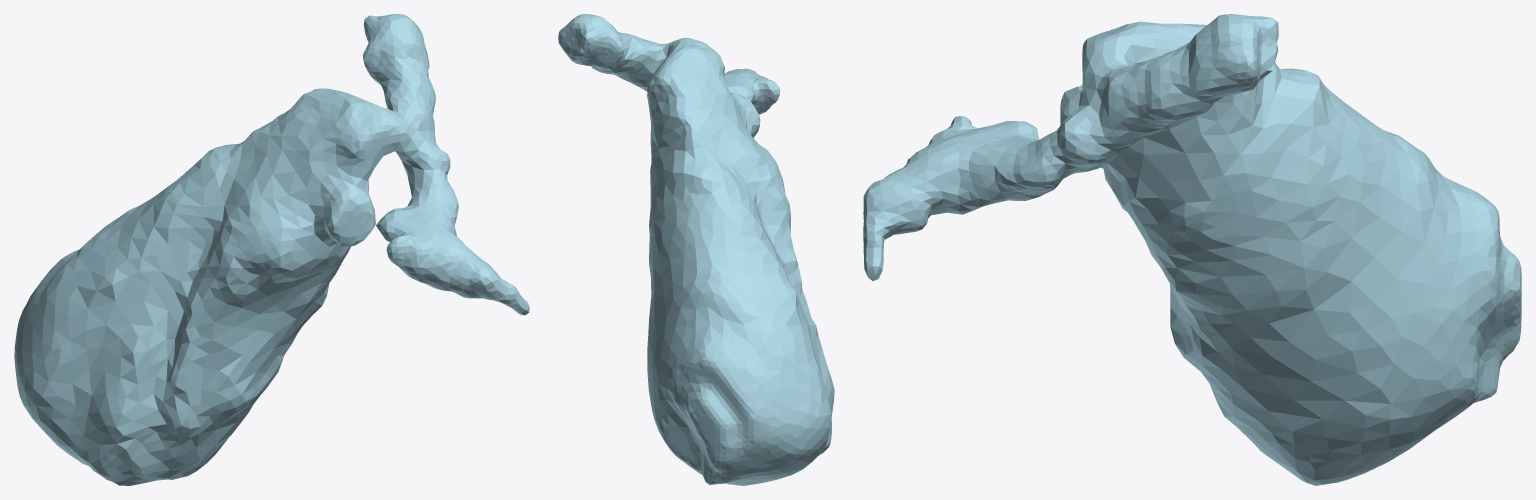
Rendered from gallbladder.obj.
3 renders of one model, left to right at view 1: azimuth 30°, elevation 25°; view 2: azimuth 150°, elevation 25°; view 3: azimuth 270°, elevation 25°, orthographic. The views are drawn at different scales.
Visible parts, largest first — view 1: grp1; view 2: grp1; view 3: grp1.
Boxes of the visible parts, x1,y1,x2,y2 form: grp1: (14,14,529,485); grp1: (558,14,834,485); grp1: (863,14,1521,485).
Size of the model in its own units: 48.3 by 58.57 by 59.95.
